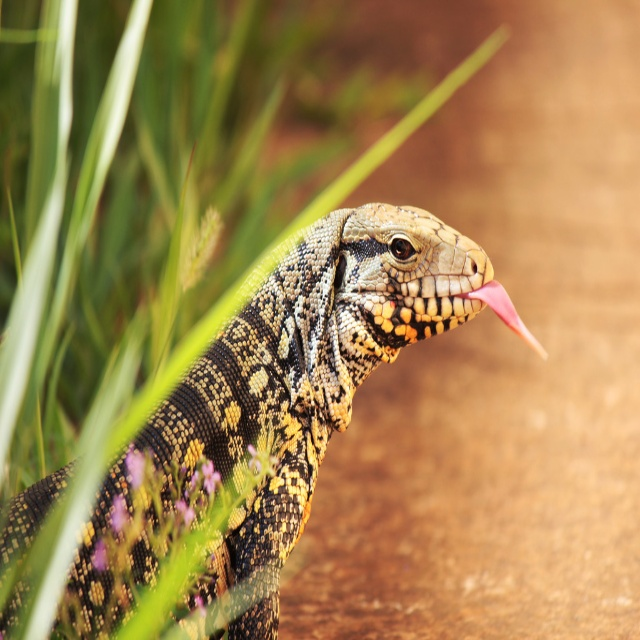Lizard: (59, 172, 551, 623)
